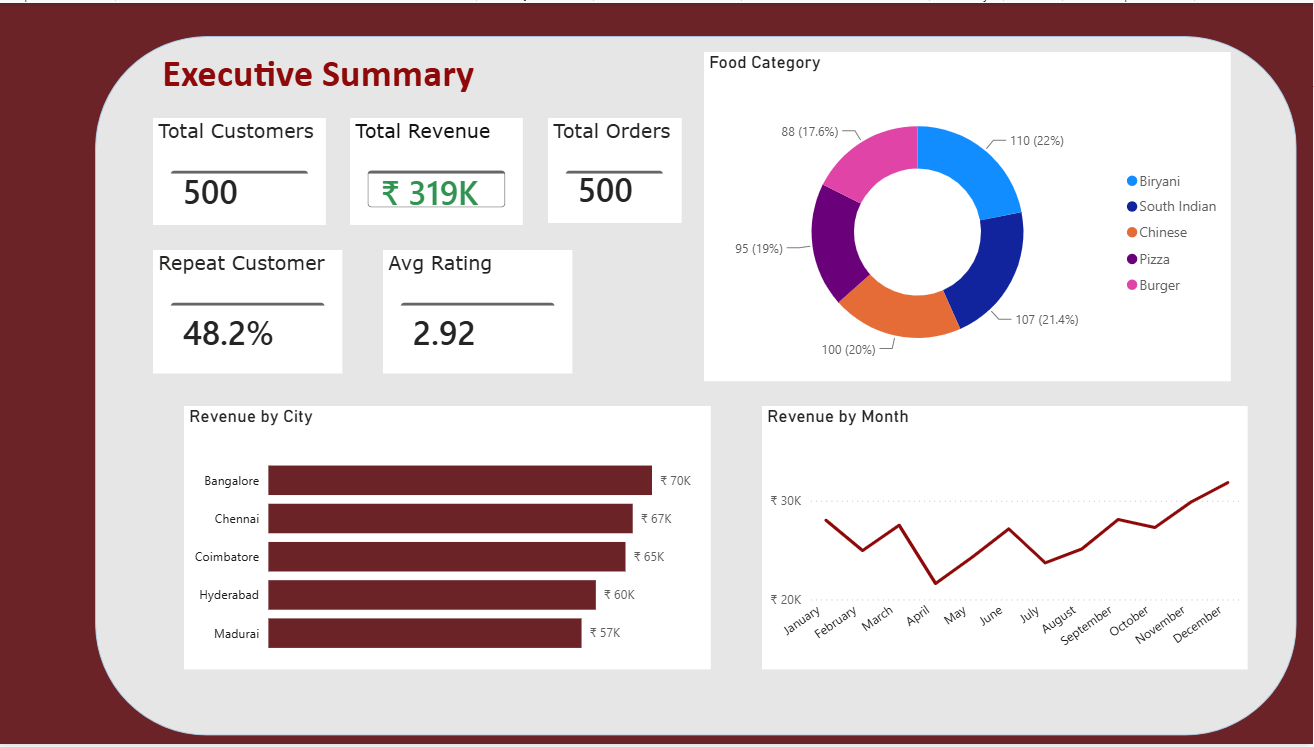

What the dashboard file says about the page in this screenshot:
{"tool":"powerbi","page":{"name":"Executive Summary","canvas":[1280,720],"ordinal":0},"visuals":[{"type":"shape","box":[96,32,1168,680],"z":0,"group":"g1"},{"type":"cardVisual","title":"Total Orders","fields":{"Data":["CountNonNull(Sheet.Order_ID)"]},"box":[536,112,129.8,101.6],"z":1000,"group":"g1"},{"type":"textbox","box":[156.2,39.6,366.5,70.3],"z":2000,"group":"g1"},{"type":"cardVisual","title":"Total Revenue","fields":{"Data":["Sheet.Total Revenue"]},"box":[344,112,168,104],"z":3000,"group":"g1"},{"type":"cardVisual","title":"Total Customers","fields":{"Data":["Sheet.tota customers"]},"box":[152,112,168,104],"z":4000,"group":"g1"},{"type":"cardVisual","title":"Avg Rating","fields":{"Data":["Sheet.Avg Rating"]},"box":[376,240,184,120],"z":5000,"group":"g1"},{"type":"cardVisual","title":"Repeat Customer ","fields":{"Data":["Sheet.Repeat Customer %"]},"box":[152,240,184,120],"z":6000,"group":"g1"},{"type":"lineChart","title":" Revenue by Month","fields":{"Category":["Sheet.Order_Date.Variation.Date Hierarchy.Month"],"Y":["Sheet.Total Revenue"]},"box":[744,392,472,256],"z":7000,"group":"g1"},{"type":"barChart","title":" Revenue by City","fields":{"Category":["Sheet.City"],"Y":["Sheet.Total Revenue"]},"box":[182.6,392,512,256],"z":8000,"group":"g1"},{"type":"donutChart","title":"Food Category","fields":{"Category":["Sheet.Food_Category"],"Y":["CountNonNull(Sheet.Order_ID)"]},"box":[688,48,512,320],"z":9000,"group":"g1"},{"type":"group","id":"g1","title":"Group 1","box":[96,32,1168,680],"z":9001}]}

Visuals, with their boxes in screenshot pixels (x1, y1, x2, y2), scaled from the page's 1280x720 canvas onto the 1314x747 screenshot:
shape: (99,33,1298,739)
"Total Orders" cardVisual: (550,116,683,222)
textbox: (160,41,537,114)
"Total Revenue" cardVisual: (353,116,526,224)
"Total Customers" cardVisual: (156,116,328,224)
"Avg Rating" cardVisual: (386,249,575,374)
"Repeat Customer " cardVisual: (156,249,345,374)
" Revenue by Month" lineChart: (764,407,1248,672)
" Revenue by City" barChart: (187,407,713,672)
"Food Category" donutChart: (706,50,1232,382)
"Group 1" group: (99,33,1298,739)
